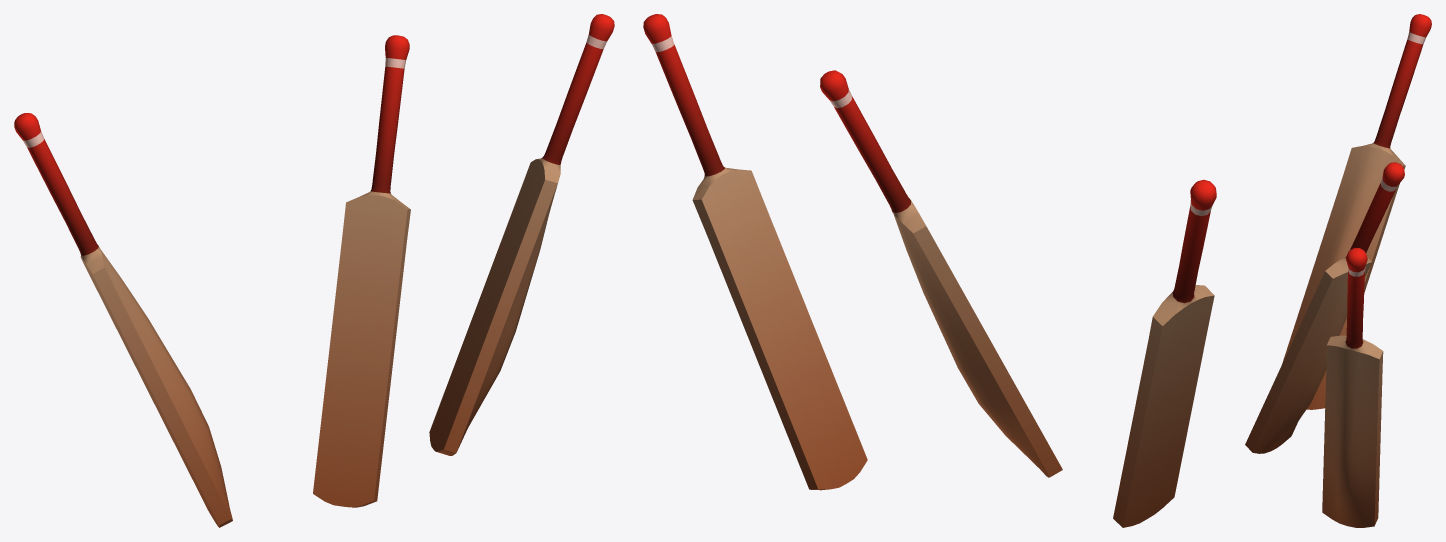
File: bat.glb
3 renders of one model, left to right at view 1: azimuth 30°, elevation 25°; view 2: azimuth 150°, elevation 25°; view 3: azimuth 270°, elevation 25°, orthographic. The views are drawn at different scales.
Visible parts, largest first — view 1: Cube, Cube.001, Cube.002; view 2: Cube.001, Cube.002, Cube; view 3: Cube.001, Cube, Cube.002.
Boxes of the visible parts, box(x1,y1,x2,y2) form: Cube: box(313, 35, 410, 507); Cube.001: box(429, 14, 614, 455); Cube.002: box(14, 113, 232, 527); Cube.001: box(643, 14, 867, 490); Cube.002: box(1113, 179, 1216, 527); Cube: box(820, 70, 1062, 477); Cube.001: box(1322, 247, 1383, 527); Cube: box(1245, 162, 1404, 453); Cube.002: box(1282, 14, 1431, 409).
Size of the model in its own units: 1.67 by 1.15 by 0.5537.
Materials: 1 (1 with a texture image).
